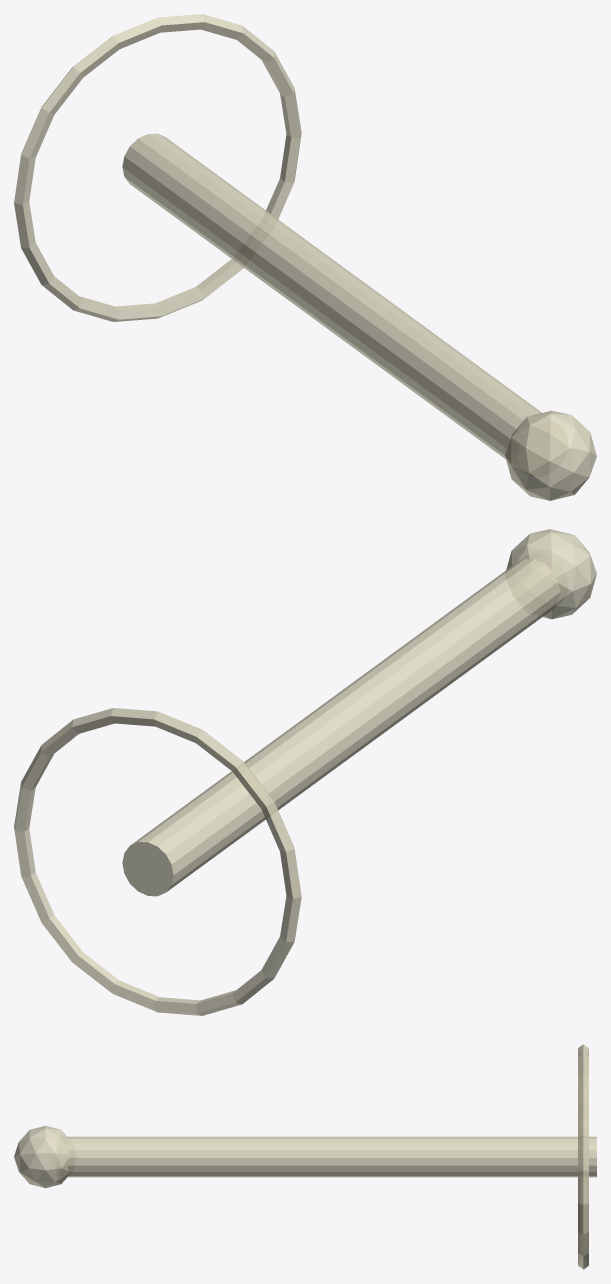
File: loot_beam_godly.glb
3 renders of one model, top to bottom at view 1: azimuth 30°, elevation 25°; view 2: azimuth 150°, elevation 25°; view 3: azimuth 270°, elevation 25°, orthographic. The views are drawn at different scales.
Visible parts, largest first — view 1: beam, ground_ring, top_spark; view 2: beam, ground_ring, top_spark; view 3: beam, top_spark, ground_ring.
Part boxes in pixels (x1,y1,x2,y2): beam: [122, 133, 541, 459]; ground_ring: [14, 14, 301, 321]; top_spark: [505, 410, 596, 500]; beam: [122, 558, 560, 896]; ground_ring: [14, 708, 301, 1015]; top_spark: [506, 529, 596, 619]; beam: [67, 1136, 596, 1177]; top_spark: [14, 1125, 68, 1188]; ground_ring: [578, 1044, 588, 1269].
Bounding box in the file's own units: 1.01 × 1.01 × 2.59.
